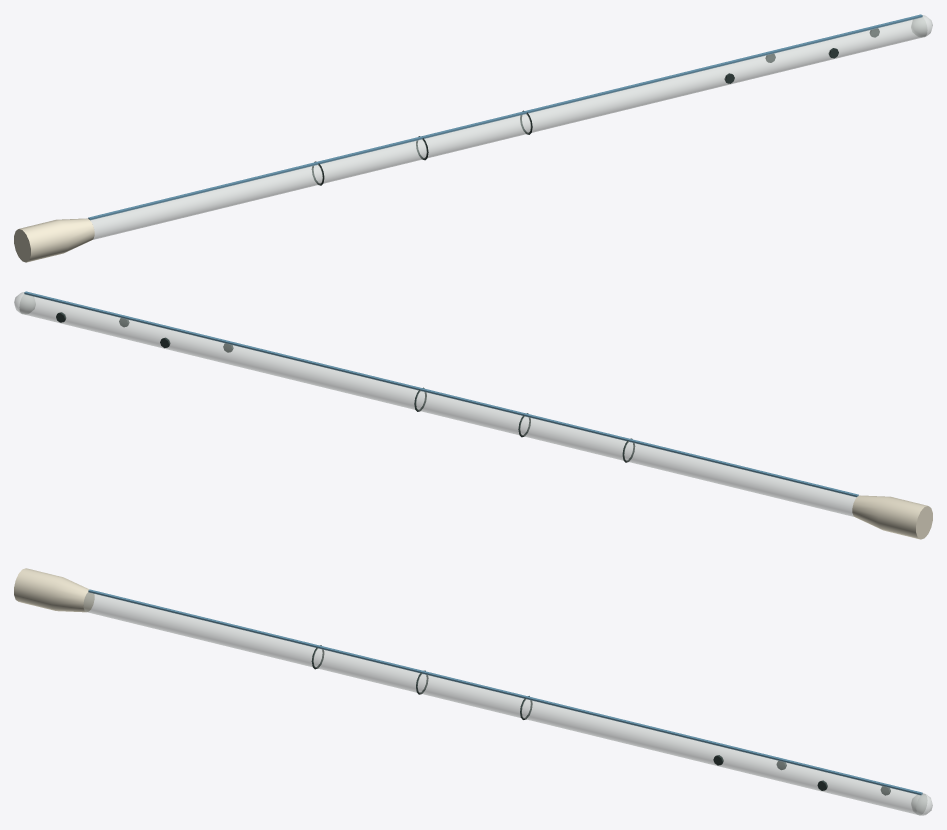
The model's file is sc-chest-tube.glb.
3 views of the same model, one above another, from view 1: azimuth 30°, elevation 25°; view 2: azimuth 150°, elevation 25°; view 3: azimuth 330°, elevation 25° (orthographic).
Visible parts, largest first — view 1: sc-chest-tube; view 2: sc-chest-tube; view 3: sc-chest-tube.
Part boxes in pixels (box(x1,y1,x2,y2)): sc-chest-tube: box(14, 14, 932, 262); sc-chest-tube: box(14, 291, 932, 539); sc-chest-tube: box(14, 568, 932, 815).
Bounding box in the file's own units: 0.4365 × 0.0144 × 0.014.
